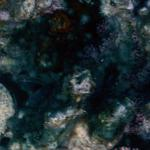dead: (1, 2, 146, 148)
